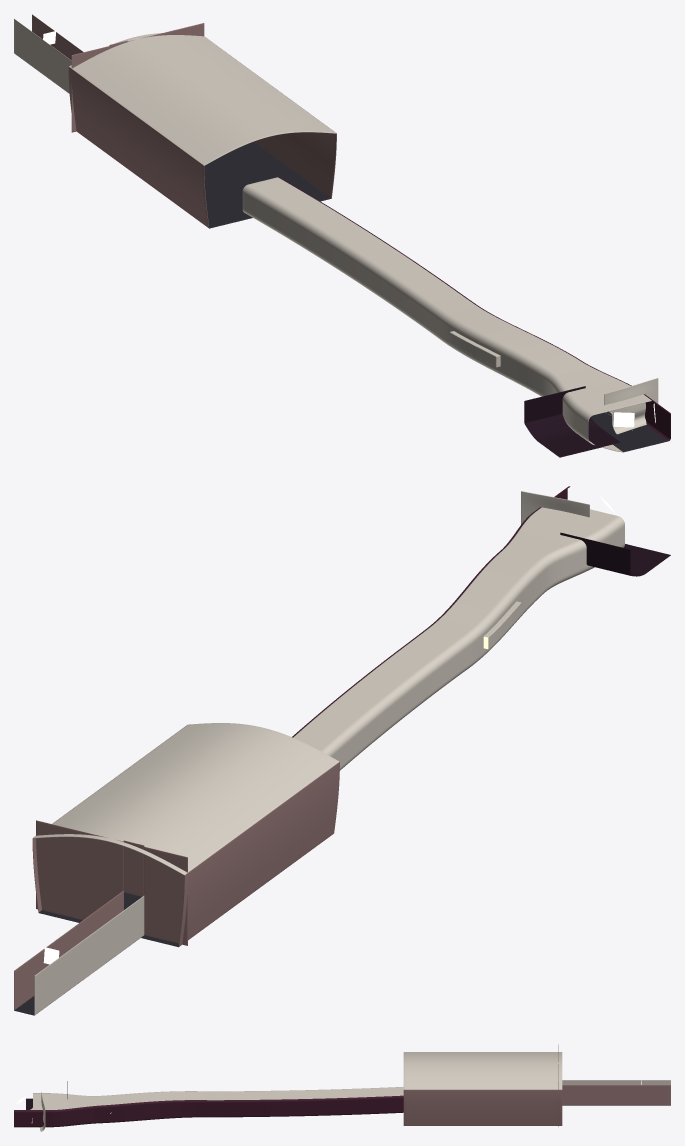
Rendered from chamber.glb.
3 renders of one model, top to bottom at view 1: azimuth 30°, elevation 25°; view 2: azimuth 150°, elevation 25°; view 3: azimuth 270°, elevation 25°, orthographic. The views are drawn at different scales.
Visible parts, largest first — view 1: Shared_Unfolding_Canopy, Continuation vaulted roof, Continuation left return, Continuation common floor, Retained_Hero_Wing_And_Floor, Continuation right return, Continuation beyond left, Shared_Sculpted_Cove, Deep_Burgundy_Continuous_Return, Continuation beyond right; view 2: Continuation vaulted roof, Shared_Unfolding_Canopy, Continuation left return, Continuation rear right pier, Continuation beyond left, Continuation rear left pier, Continuation beyond right, Retained_Hero_Wing_And_Floor, Shared_Sculpted_Cove, Continuation rear lintel; view 3: Deep_Burgundy_Continuous_Return, Continuation vaulted roof, Continuation right return, Shared_Unfolding_Canopy, Continuation beyond right, Continuation beyond left.
Part boxes in pixels (x1=…): Shared_Unfolding_Canopy: x1=242, y1=177, x2=667, y2=452; Continuation vaulted roof: x1=69, y1=33, x2=336, y2=165; Continuation left return: x1=68, y1=66, x2=209, y2=227; Continuation common floor: x1=204, y1=141, x2=331, y2=228; Retained_Hero_Wing_And_Floor: x1=524, y1=386, x2=620, y2=457; Continuation right return: x1=211, y1=41, x2=336, y2=198; Continuation beyond left: x1=14, y1=18, x2=71, y2=93; Shared_Sculpted_Cove: x1=604, y1=378, x2=658, y2=434; Deep_Burgundy_Continuous_Return: x1=278, y1=177, x2=670, y2=441; Continuation beyond right: x1=32, y1=14, x2=83, y2=60; Continuation vaulted roof: x1=33, y1=723, x2=339, y2=875; Shared_Unfolding_Canopy: x1=293, y1=507, x2=624, y2=770; Continuation left return: x1=178, y1=761, x2=339, y2=946; Continuation rear right pier: x1=36, y1=820, x2=123, y2=920; Continuation beyond left: x1=34, y1=896, x2=144, y2=1015; Continuation rear left pier: x1=144, y1=846, x2=187, y2=945; Continuation beyond right: x1=14, y1=891, x2=123, y2=1010; Retained_Hero_Wing_And_Floor: x1=560, y1=532, x2=670, y2=576; Shared_Sculpted_Cove: x1=521, y1=491, x2=589, y2=524; Continuation rear lintel: x1=123, y1=840, x2=144, y2=896; Deep_Burgundy_Continuous_Return: x1=14, y1=1095, x2=403, y2=1127; Continuation vaulted roof: x1=403, y1=1052, x2=562, y2=1089; Continuation right return: x1=403, y1=1089, x2=562, y2=1125; Shared_Unfolding_Canopy: x1=30, y1=1087, x2=403, y2=1109; Continuation beyond right: x1=562, y1=1085, x2=670, y2=1105; Continuation beyond left: x1=562, y1=1080, x2=670, y2=1084.
Bounding box in the file's own units: 58.11 × 29.53 × 381.
